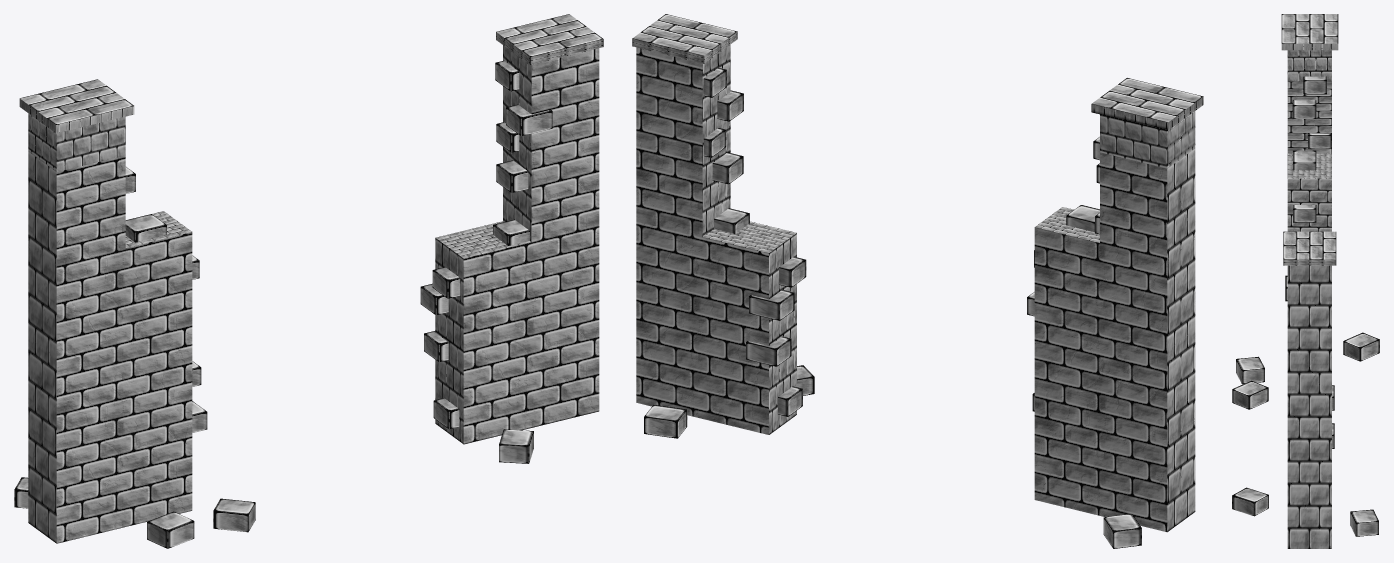
The model's file is stonewallDestroyed.fbx.
The picture shows the model from 3 angles, left to right: view 1: azimuth 30°, elevation 25°; view 2: azimuth 150°, elevation 25°; view 3: azimuth 270°, elevation 25°; orthographic projection. The views are drawn at different scales.
Visible parts, largest first — view 1: Cube; view 2: Cube; view 3: Cube.
Boxes of the visible parts, box(x1,y1,x2,y2) form: Cube: box(14, 14, 603, 548); Cube: box(632, 14, 1203, 548); Cube: box(1232, 14, 1379, 548).
Size of the model in its own units: 2214 by 1632 by 666.
